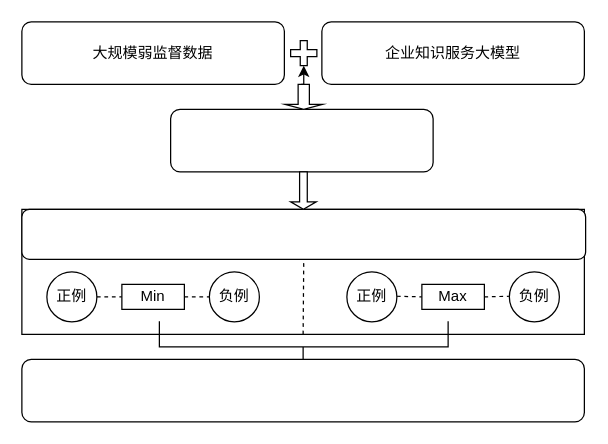
Image size: 608x444. Some labels were removed from this diagram. The centre of each missing label's shape, as x and y in pixels:
对比学习: the point at 303,233
构建正负例数据集: the point at 301,140
知识增强企业知识服务大模型: the point at 302,390
